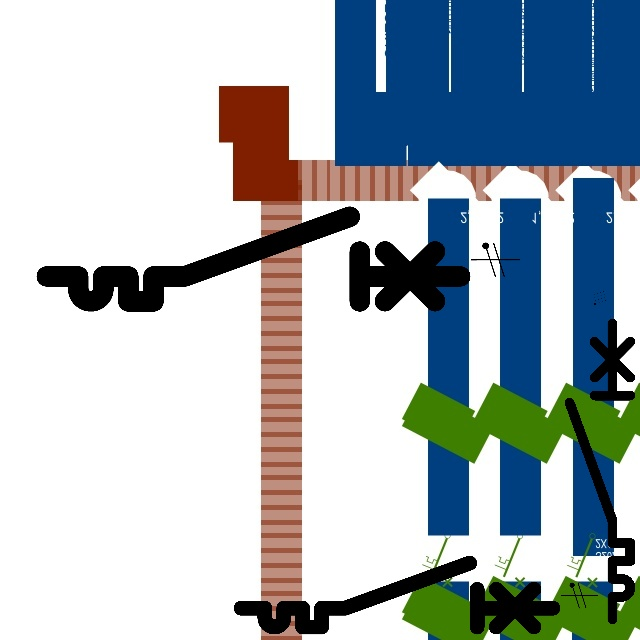interruptor_termomagnetico: (36, 206, 471, 312), (233, 555, 561, 635), (562, 316, 638, 626)
